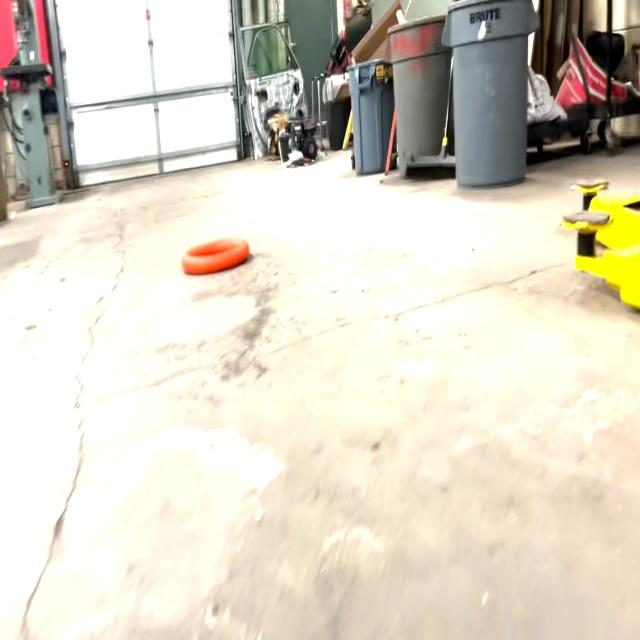note: (183, 232, 250, 278)
